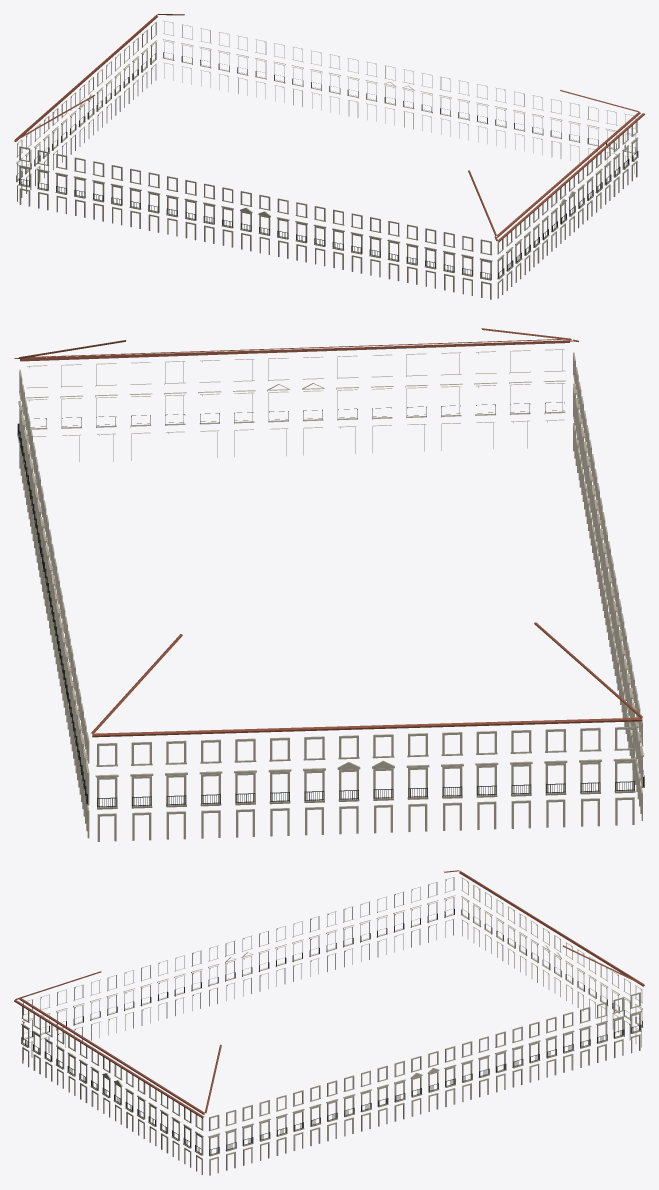
3 views of the same model, one above another, from view 1: azimuth 30°, elevation 25°; view 2: azimuth 150°, elevation 25°; view 3: azimuth 270°, elevation 25° (orthographic). The views are drawn at different scales.
Visible parts, largest first — view 1: detail; view 2: detail; view 3: detail.
Boxes of the visible parts, x1,y1,x2,y2 form: detail: (14, 14, 644, 299); detail: (14, 328, 644, 841); detail: (14, 870, 644, 1175).
Size of the model in its own units: 87.29 by 16.13 by 94.95.
